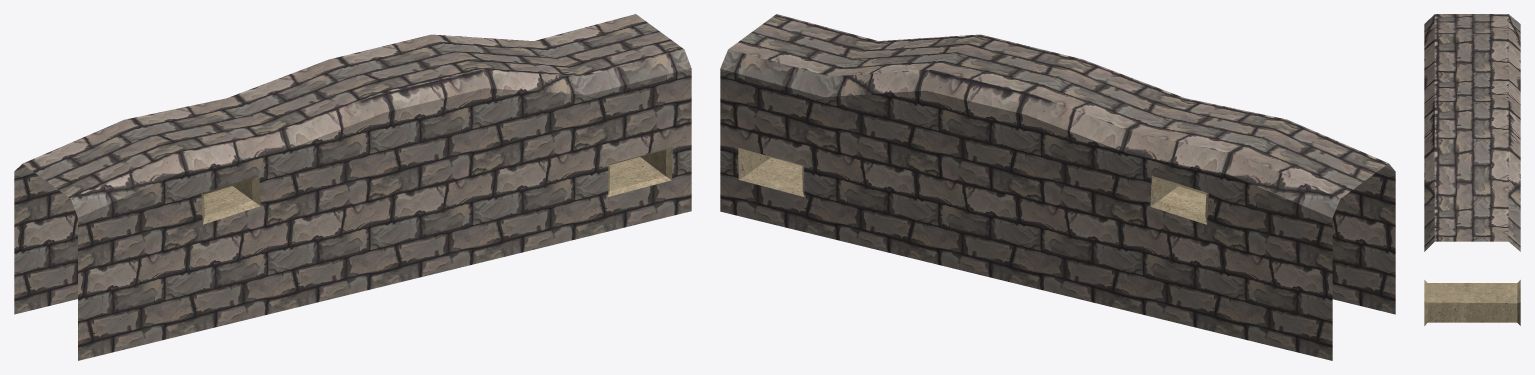
Rendered from OuterWallD.fbx.
The picture shows the model from 3 angles, left to right: view 1: azimuth 30°, elevation 25°; view 2: azimuth 150°, elevation 25°; view 3: azimuth 270°, elevation 25°; orthographic projection. The views are drawn at different scales.
Parts seen in each view (by area): view 1: polySurface27; view 2: polySurface27; view 3: polySurface27.
Boxes of the visible parts, <box> form: polySurface27: <box>14,14,691,360</box>; polySurface27: <box>720,14,1395,360</box>; polySurface27: <box>1424,14,1520,325</box>.
Size of the model in its own units: 11.17 by 3.24 by 2.
